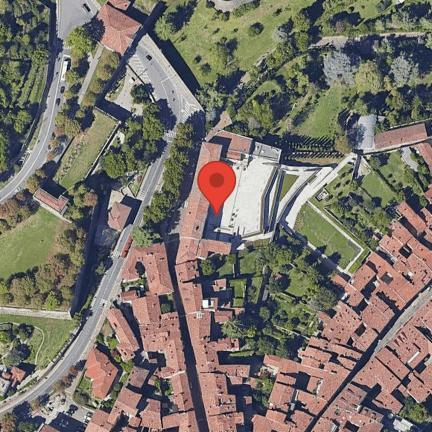area_open: (3, 379, 91, 432), (282, 166, 333, 218), (107, 63, 148, 111)
built: (255, 191, 429, 425), (88, 242, 197, 428), (174, 191, 252, 429), (314, 306, 430, 428), (214, 144, 279, 241), (88, 0, 137, 51), (376, 124, 432, 165), (83, 347, 117, 401), (206, 125, 258, 156), (104, 198, 132, 231), (3, 364, 28, 396), (36, 187, 62, 212), (267, 352, 289, 369)
vegetation_high: (204, 4, 430, 132), (1, 33, 117, 226), (0, 189, 115, 309), (206, 243, 327, 353), (3, 7, 52, 183), (133, 127, 201, 245), (97, 89, 165, 182), (326, 186, 385, 241), (289, 138, 353, 161)
vegetation_low: (145, 3, 305, 94), (294, 202, 358, 277), (7, 312, 83, 372), (52, 115, 114, 187), (0, 214, 57, 277), (352, 154, 415, 208), (278, 85, 341, 137)
